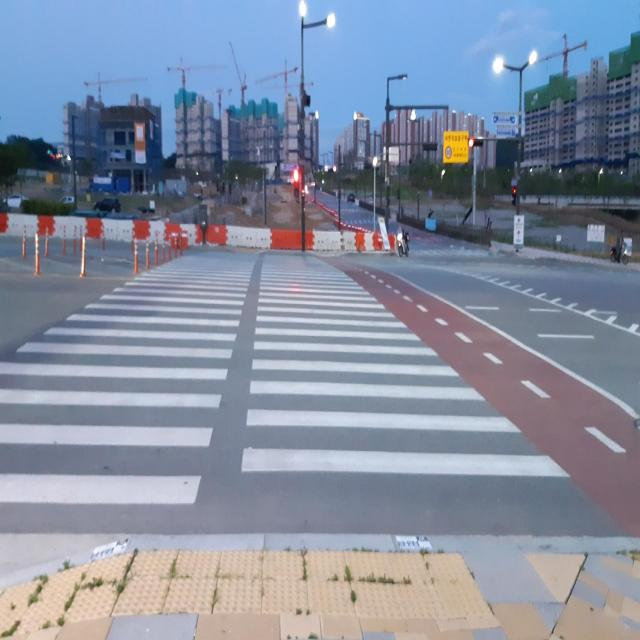빨간불: (294, 168, 300, 200), (511, 186, 518, 203)
횡단보도: (0, 250, 572, 508)
